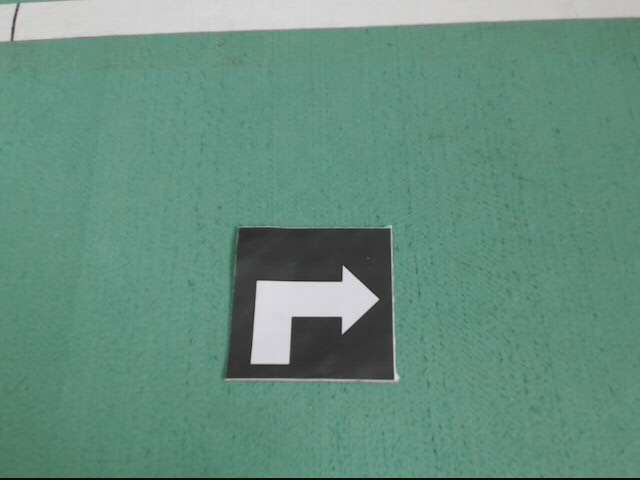right: (227, 227, 394, 380)
